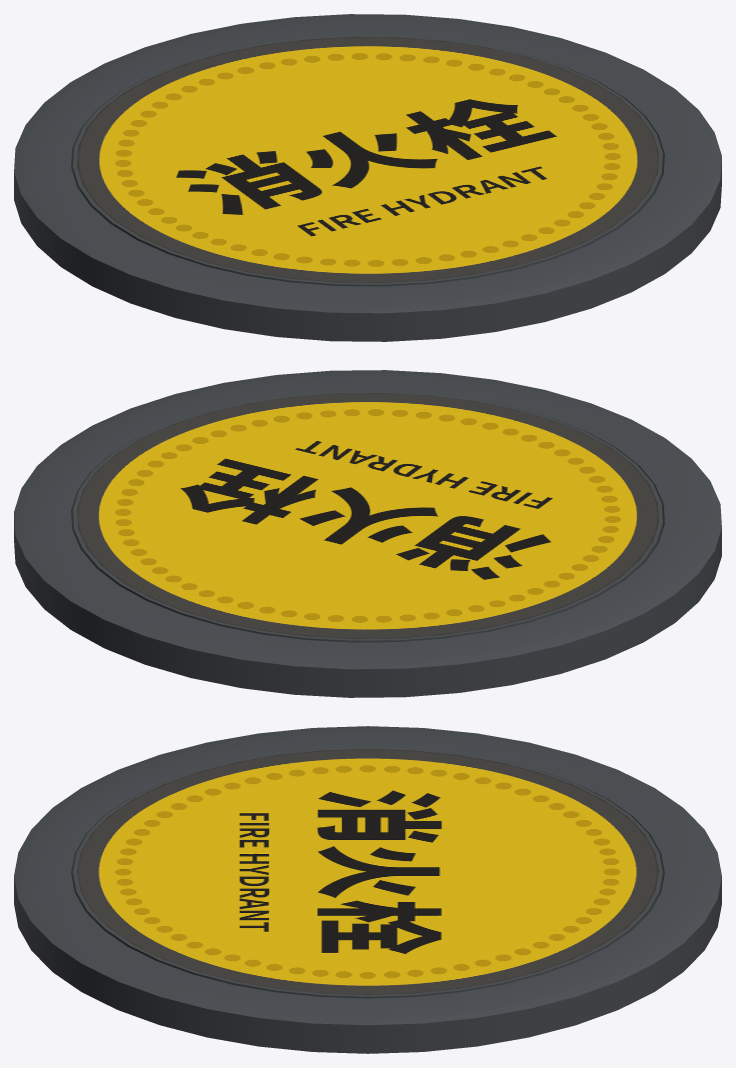
Rendered from manhole_cover_hydrant.fbx.
3 views of the same model, one above another, from view 1: azimuth 30°, elevation 25°; view 2: azimuth 150°, elevation 25°; view 3: azimuth 270°, elevation 25° (orthographic).
Visible parts, largest first — view 1: manhole_cover_hydrant; view 2: manhole_cover_hydrant; view 3: manhole_cover_hydrant.
Part boxes in pixels (left/top/right/bottom): manhole_cover_hydrant: left=14, top=14, right=721, bottom=341; manhole_cover_hydrant: left=14, top=370, right=721, bottom=697; manhole_cover_hydrant: left=14, top=726, right=721, bottom=1053.
Bounding box in the file's own units: 0.72 × 0.0362 × 0.72.
2 materials, 1 textured.
